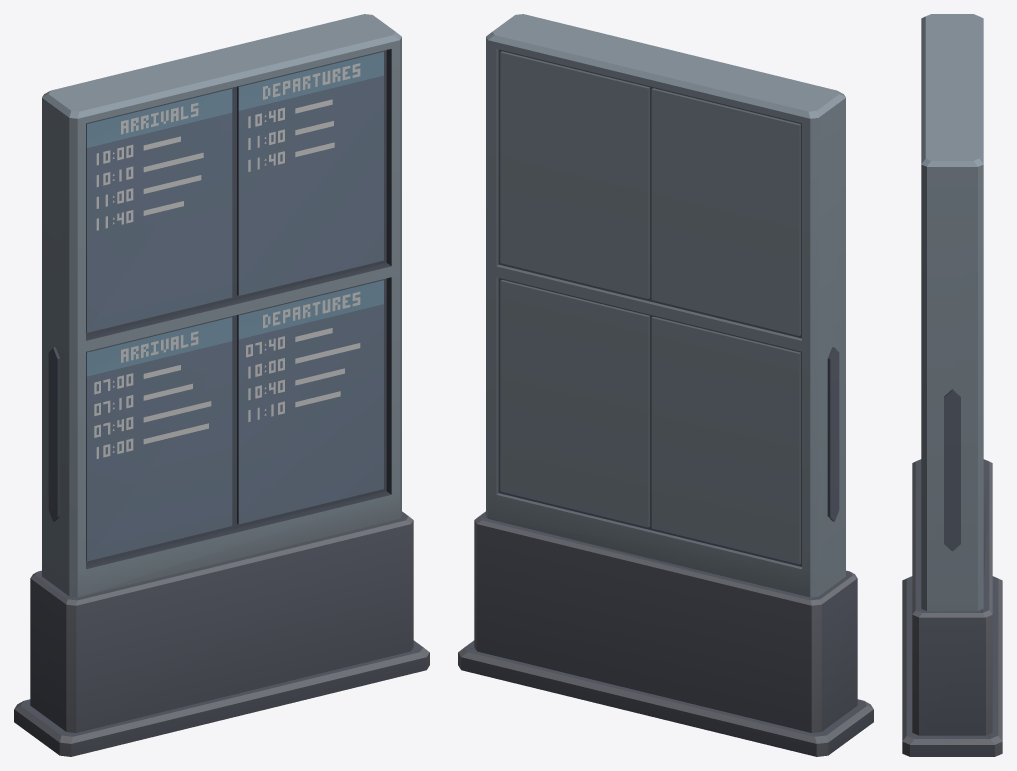
Rendered from depboard.glb.
The picture shows the model from 3 angles, left to right: view 1: azimuth 30°, elevation 25°; view 2: azimuth 150°, elevation 25°; view 3: azimuth 270°, elevation 25°; orthographic projection. The views are drawn at different scales.
Parts seen in each view (by area): view 1: depboard; view 2: depboard; view 3: depboard.
Part boxes in pixels (<box>): depboard: <box>14,14,429,756</box>; depboard: <box>458,14,873,756</box>; depboard: <box>902,14,1002,756</box>.
Bounding box in the file's own units: 1.78 × 2.9 × 0.45.
